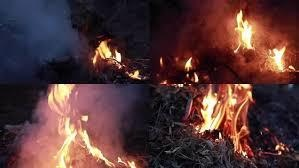fire: (43, 101, 130, 167), (193, 83, 255, 156), (88, 36, 140, 79), (230, 10, 254, 52), (264, 44, 295, 71)
